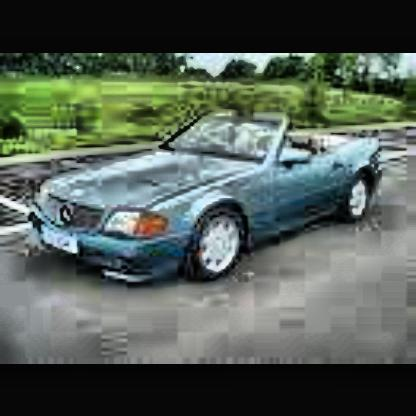Mercedes-Benz 300-Class Convertible 1993: (16, 57, 416, 326)
